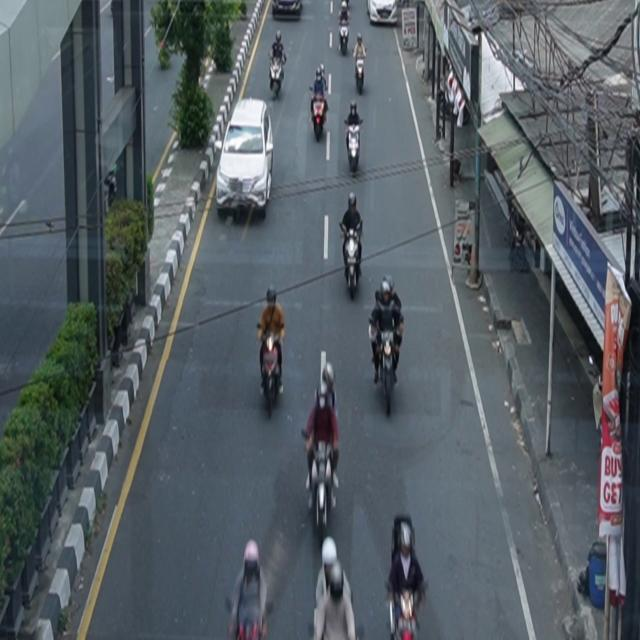car: (217, 98, 275, 220)
